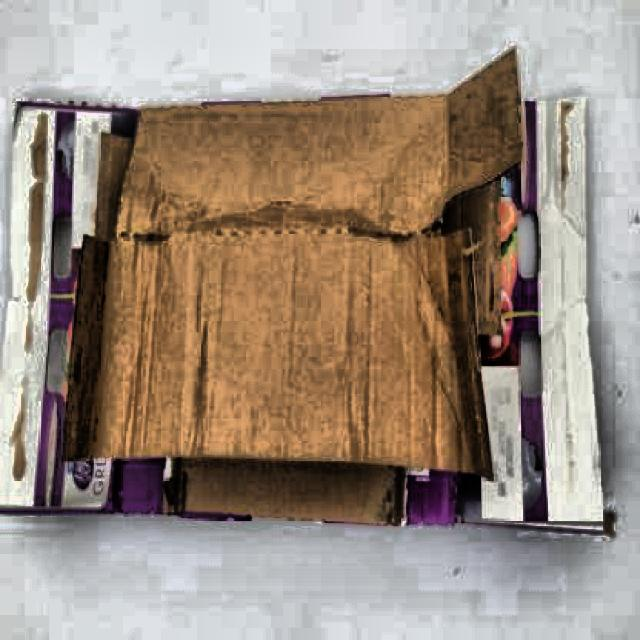Cardbox: (8, 84, 621, 551)
